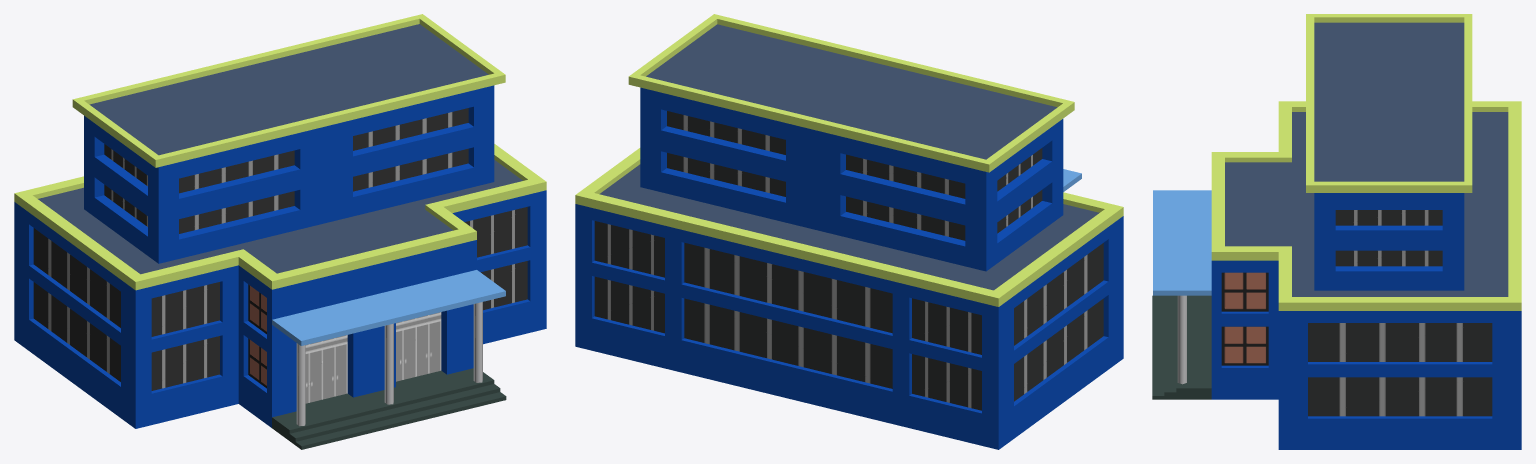
File: building26c.FBX
The picture shows the model from 3 angles, left to right: view 1: azimuth 30°, elevation 25°; view 2: azimuth 150°, elevation 25°; view 3: azimuth 270°, elevation 25°; orthographic projection. The views are drawn at different scales.
Visible parts, largest first — view 1: building26c; view 2: building26c; view 3: building26c.
Boxes of the visible parts, left/top/right/bottom form: building26c: left=14, top=14, right=546, bottom=449; building26c: left=575, top=14, right=1123, bottom=449; building26c: left=1152, top=14, right=1521, bottom=449.
Size of the model in its own units: 29.24 by 17.05 by 22.7.
